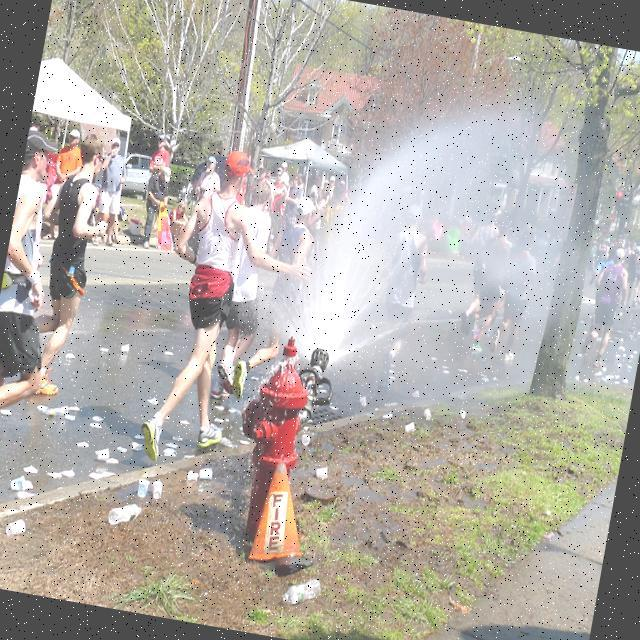fire_hydrant: (218, 330, 318, 556)
